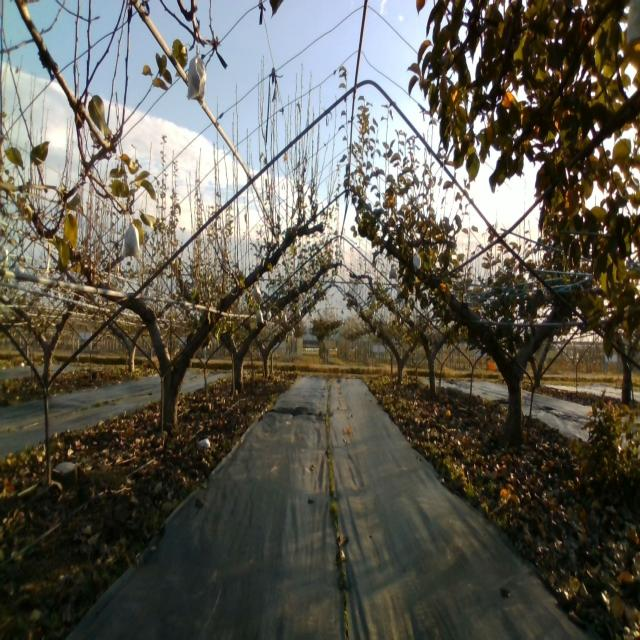pearbags: (186, 45, 207, 102), (120, 213, 140, 257)
